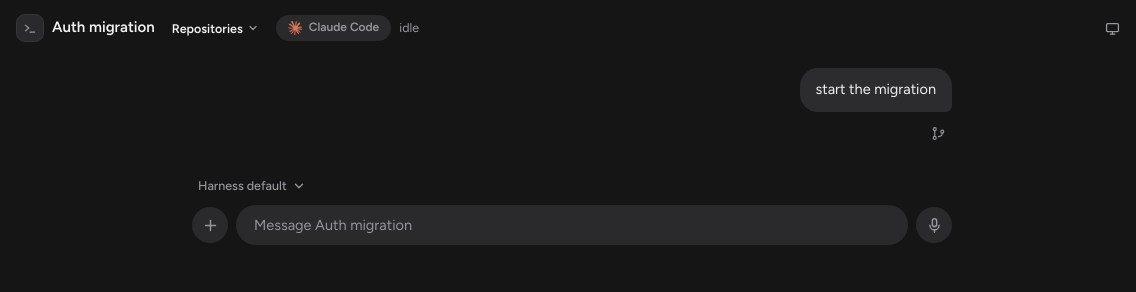
Test: LiveThreadView branch in new chat › says so when the host refuses the fork
Expected: the text "start the migration" is shown, x1=800 y1=68 x2=952 y2=112
Click the button named "Branch in new chat" at coordinates (938, 134), box x1=924 y1=120 x2=952 y2=148
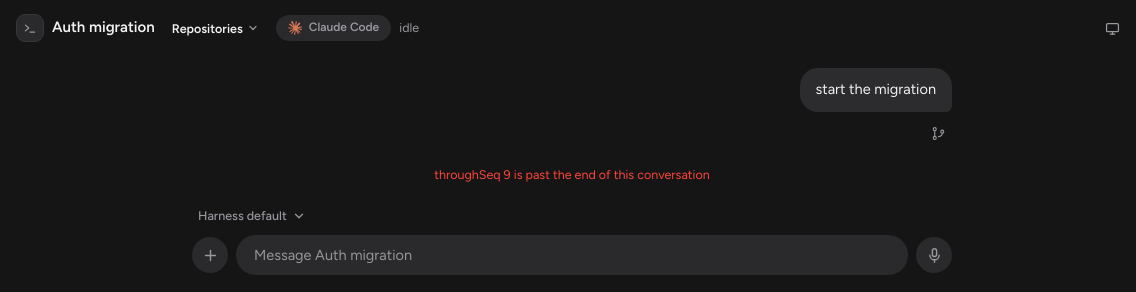
Now the message shows "past the end of this conversation", box x1=434 y1=167 x2=710 y2=182
